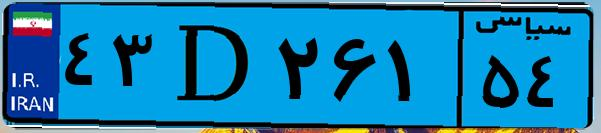1: (385, 28, 445, 110)
2: (270, 28, 330, 110)
3: (110, 28, 158, 98)
4: (57, 26, 110, 100), (525, 38, 570, 115)
5: (475, 38, 525, 113)
6: (330, 28, 385, 110)
D: (158, 12, 270, 120)
